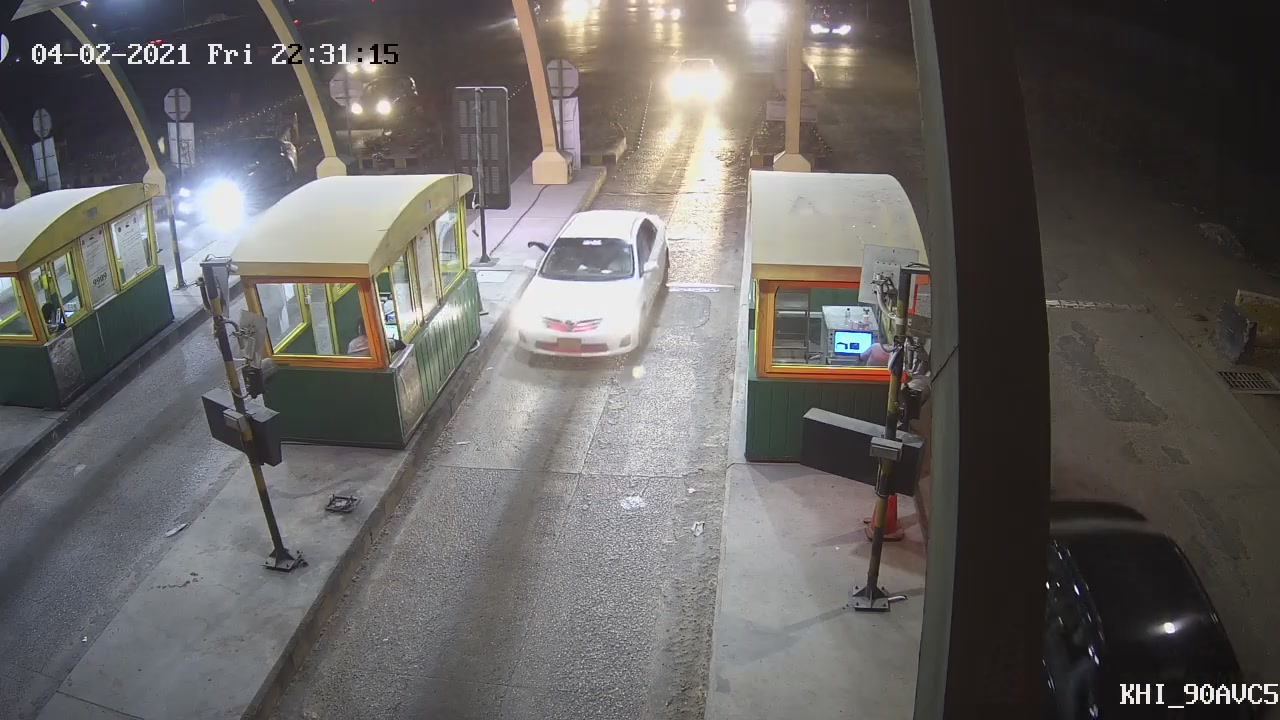F1: (513, 198, 674, 366)
